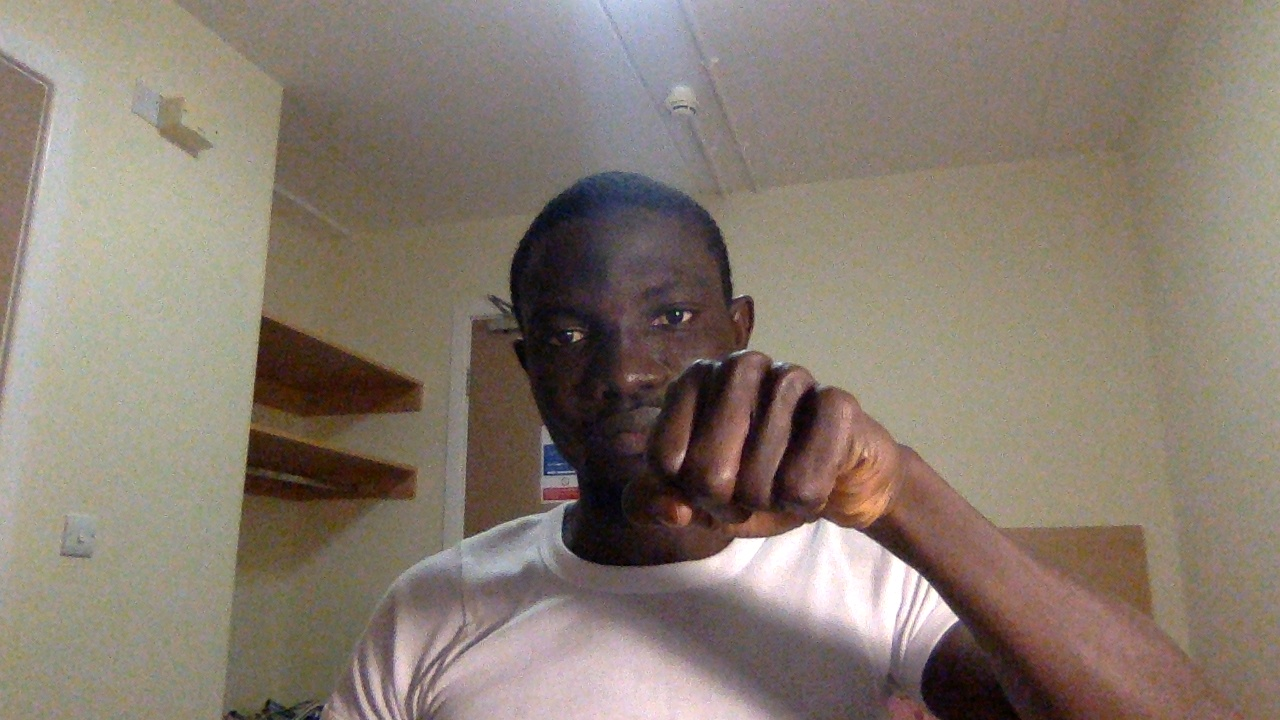Yes: (620, 343, 923, 553)
